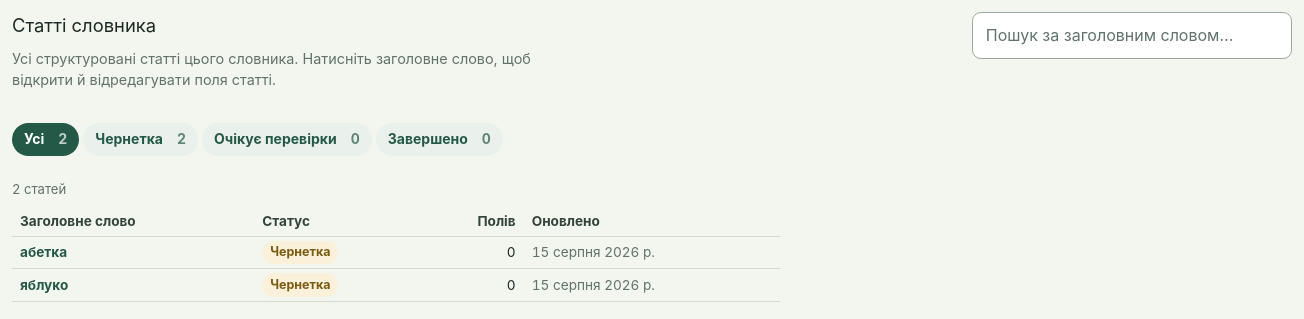
Test case: EntriesListPage › filters by a headword search query
The width and height of the screenshot is (1304, 319).
Expected: the link "абетка" is shown, [20, 244, 67, 260]
Type "ябл" into the search field with placeholder "Пошук за заголовним словом…" at (1132, 35), box [972, 12, 1292, 59]
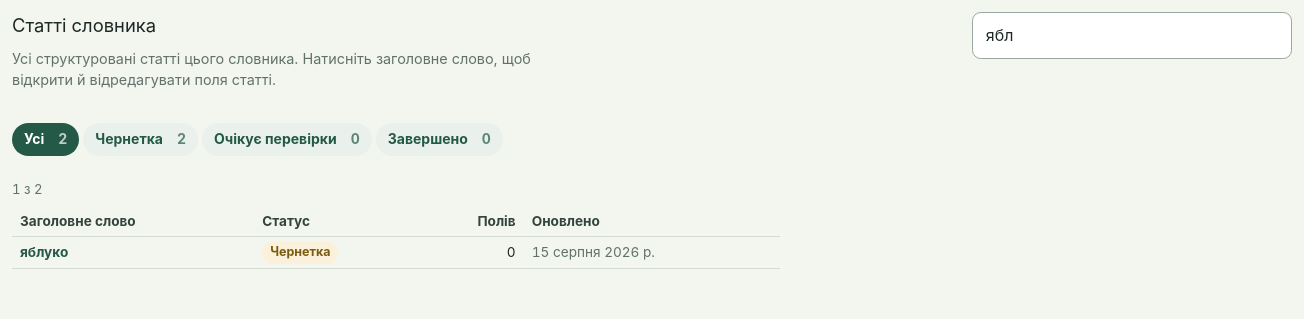
Expected: the link "яблуко" is shown, [20, 244, 68, 260]
Expected: the link "абетка" is gone
